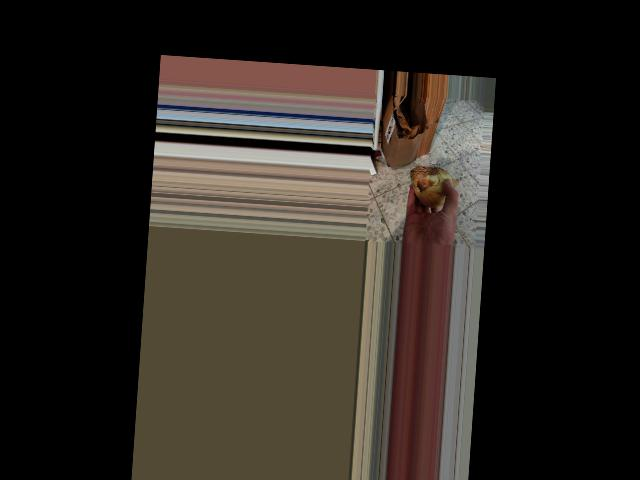onion: (406, 160, 460, 212)
